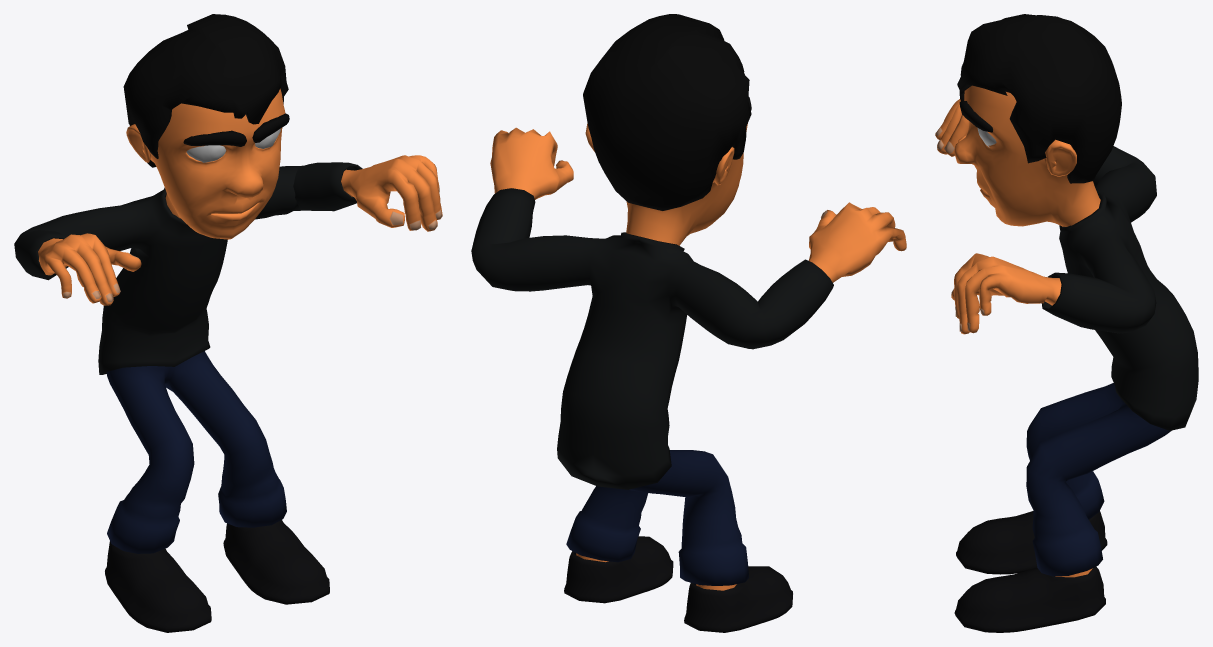
File: PlayerPose.fbx
The picture shows the model from 3 angles, left to right: view 1: azimuth 30°, elevation 25°; view 2: azimuth 150°, elevation 25°; view 3: azimuth 270°, elevation 25°; orthographic projection. The views are drawn at different scales.
Parts seen in each view (by area): view 1: Player001; view 2: Player001; view 3: Player001.
Boxes of the visible parts, x1,y1,x2,y2 form: Player001: (14, 14, 442, 632); Player001: (471, 14, 906, 632); Player001: (935, 14, 1198, 632).
Size of the model in its own units: 41.55 by 57.29 by 23.84.
